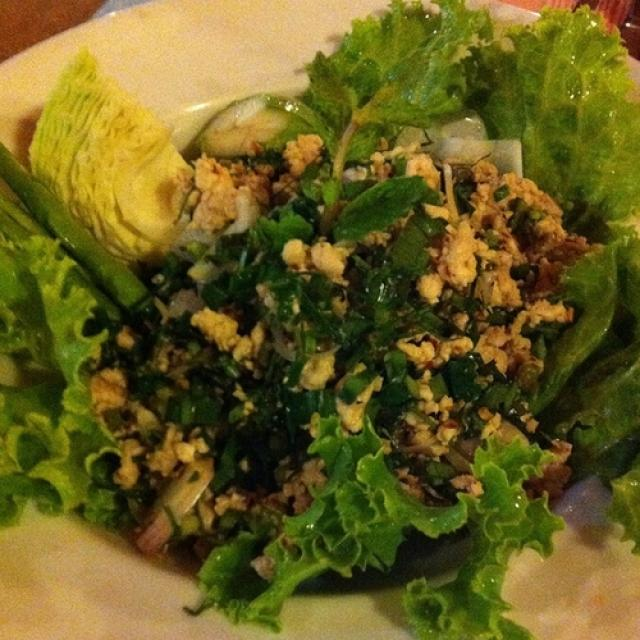鸡肉料理 含炸鸡: (44, 42, 608, 613)
